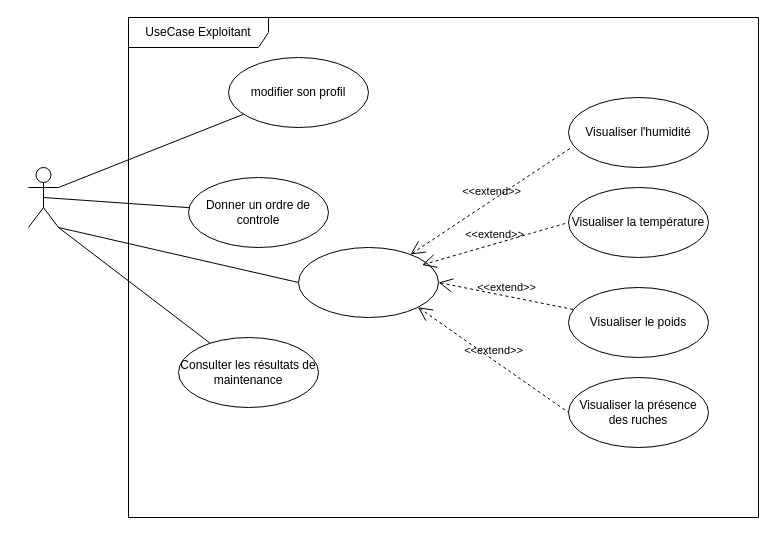
The diagram is 776 pixels wide and 535 high, and some of its shapes have lost their labels. Each missing label, with the centre of its shape:
"consulter tableau de bord" belongs at (x=368, y=282).
"Exploitant" belongs at (x=43, y=197).
